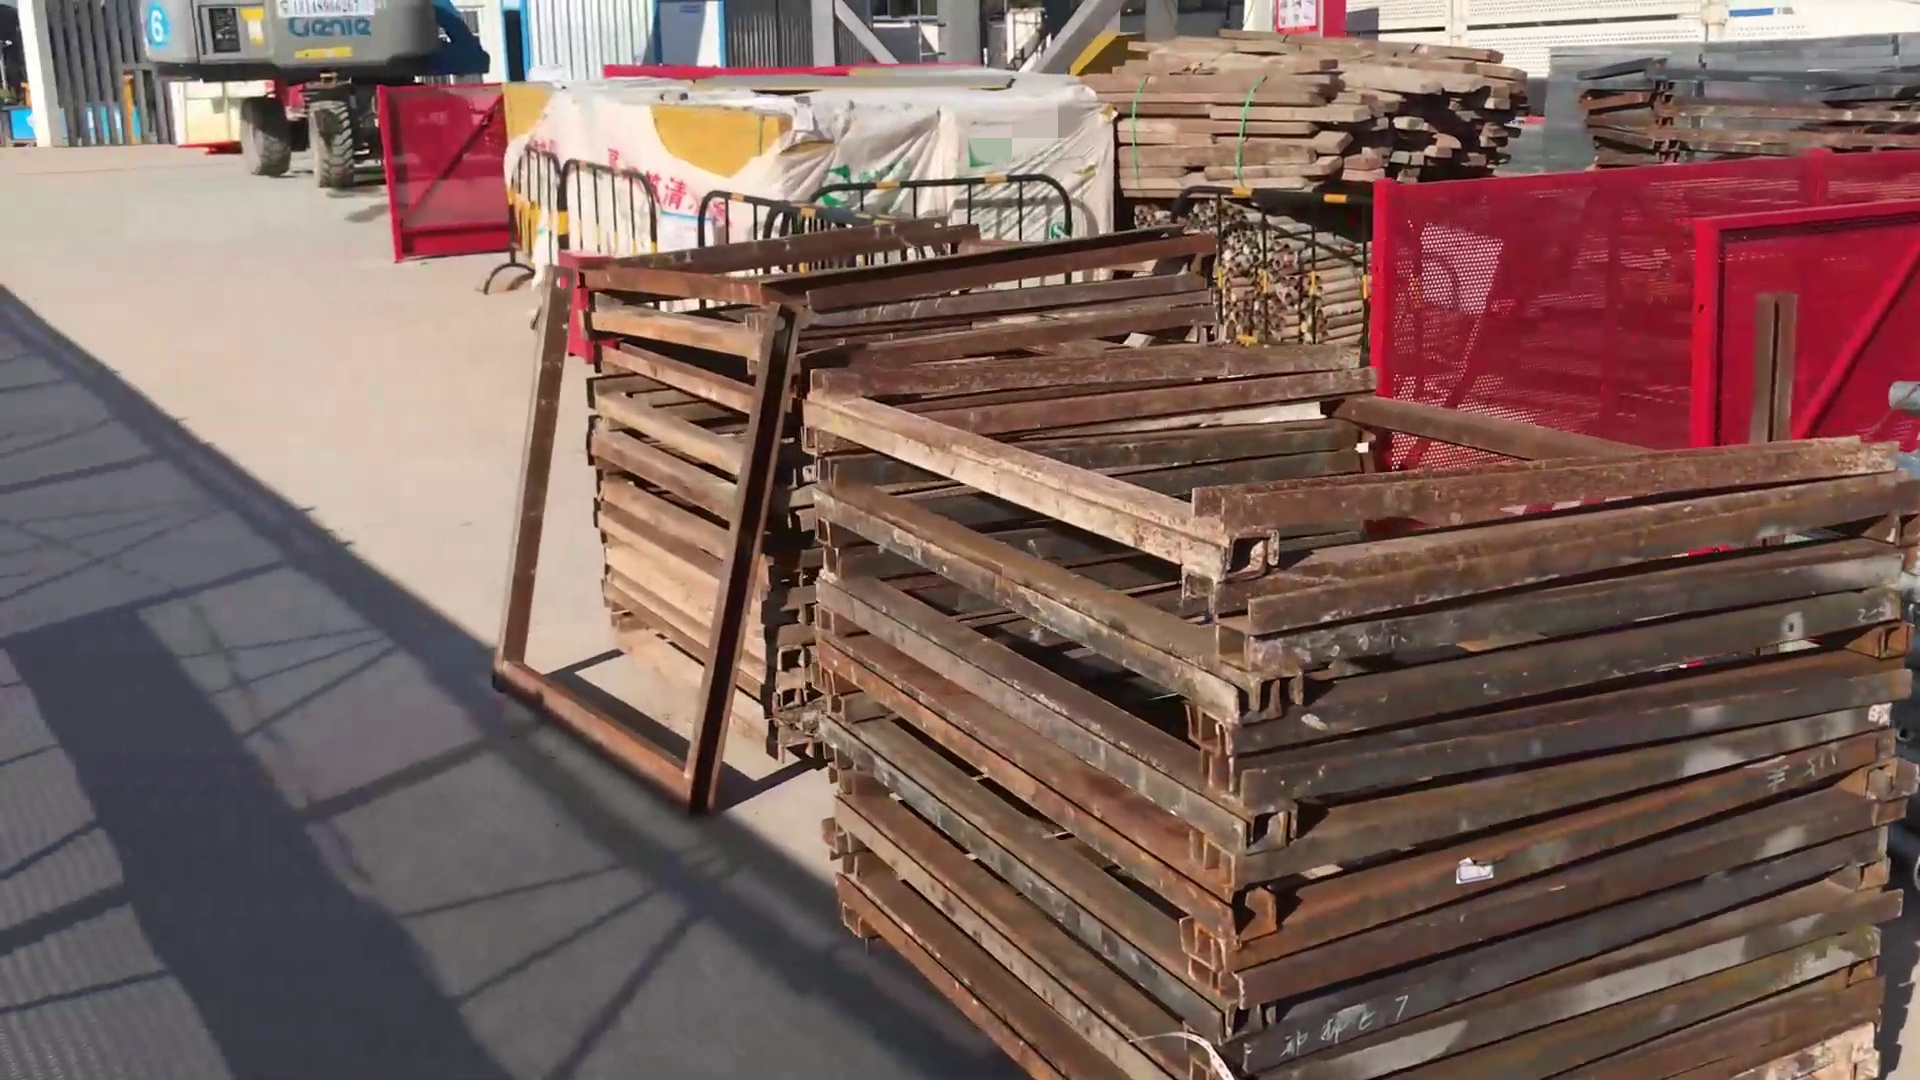fence: (702, 171, 1077, 233), (504, 158, 670, 281)
rebar: (1166, 203, 1389, 376)
scaffold: (555, 229, 1909, 1080)
wood: (1092, 29, 1516, 195)
